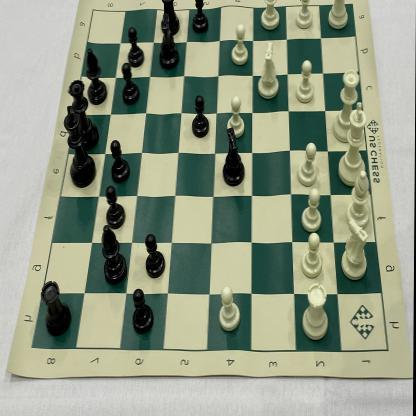black-bishop: (102, 224, 128, 286), (88, 46, 106, 106)
black-king: (63, 104, 96, 186)
black-knight: (222, 126, 248, 188), (159, 11, 179, 70)
black-pawn: (132, 288, 156, 335), (144, 234, 167, 280), (110, 138, 132, 186), (104, 188, 128, 230), (121, 64, 142, 106), (192, 94, 210, 140), (127, 26, 145, 70), (191, 0, 209, 34)
black-queen: (67, 78, 95, 144)
black-rook: (40, 280, 72, 338), (159, 0, 181, 37)
white-bishop: (346, 168, 373, 230), (258, 0, 281, 30)
white-king: (339, 102, 370, 186)
white-knight: (341, 217, 371, 280), (256, 40, 282, 101)
white-pawn: (218, 284, 242, 332), (301, 231, 323, 280), (296, 143, 320, 186), (302, 186, 323, 233), (296, 60, 315, 104), (228, 94, 246, 136), (232, 24, 248, 66), (294, 0, 314, 31)
white-queen: (332, 67, 362, 143)
white-rook: (302, 281, 330, 340), (326, 0, 351, 31)
